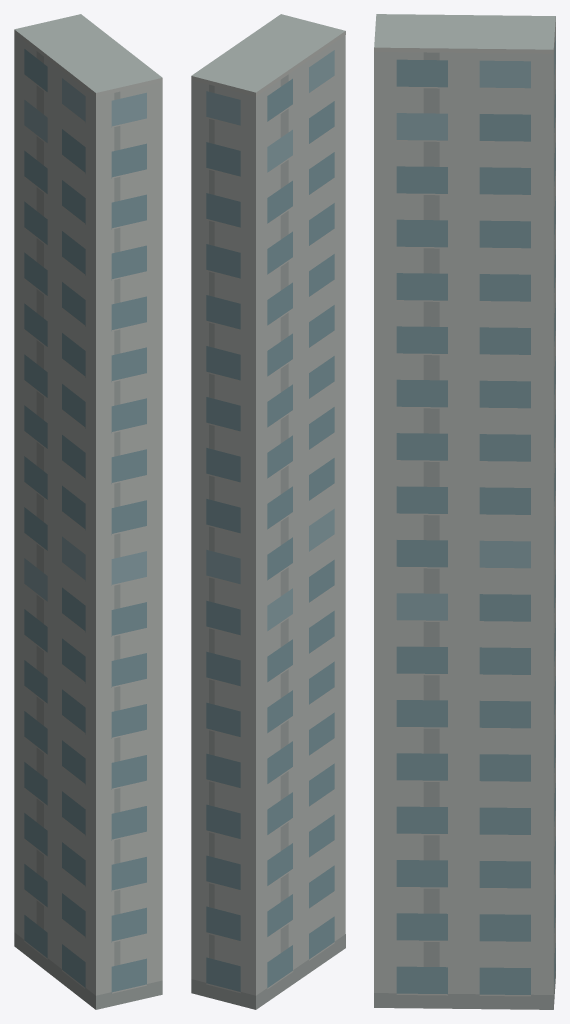
Rendered from survey-upis-32692135.glb.
3 renders of one model, left to right at view 1: azimuth 30°, elevation 25°; view 2: azimuth 150°, elevation 25°; view 3: azimuth 270°, elevation 25°, orthographic. The views are drawn at different scales.
Parts seen in each view (by area): view 1: survey-upis-32692135.tmp; view 2: survey-upis-32692135.tmp; view 3: survey-upis-32692135.tmp.
Boxes of the visible parts, x1=… form: survey-upis-32692135.tmp: x1=14, y1=14, x2=162, y2=1009; survey-upis-32692135.tmp: x1=191, y1=14, x2=345, y2=1009; survey-upis-32692135.tmp: x1=374, y1=14, x2=555, y2=1009.
Bounding box in the file's own units: 4.38 × 54.9 × 9.43.
